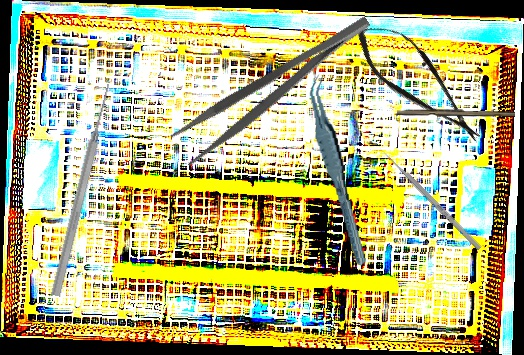Dressing Forceps: (168, 11, 384, 168)
Micro Scissor: (341, 5, 497, 158)
Pusher: (48, 82, 116, 298), (378, 146, 482, 251)
Scalpel Handle: (397, 108, 515, 117)
Tissue Forceps: (306, 70, 368, 270)
